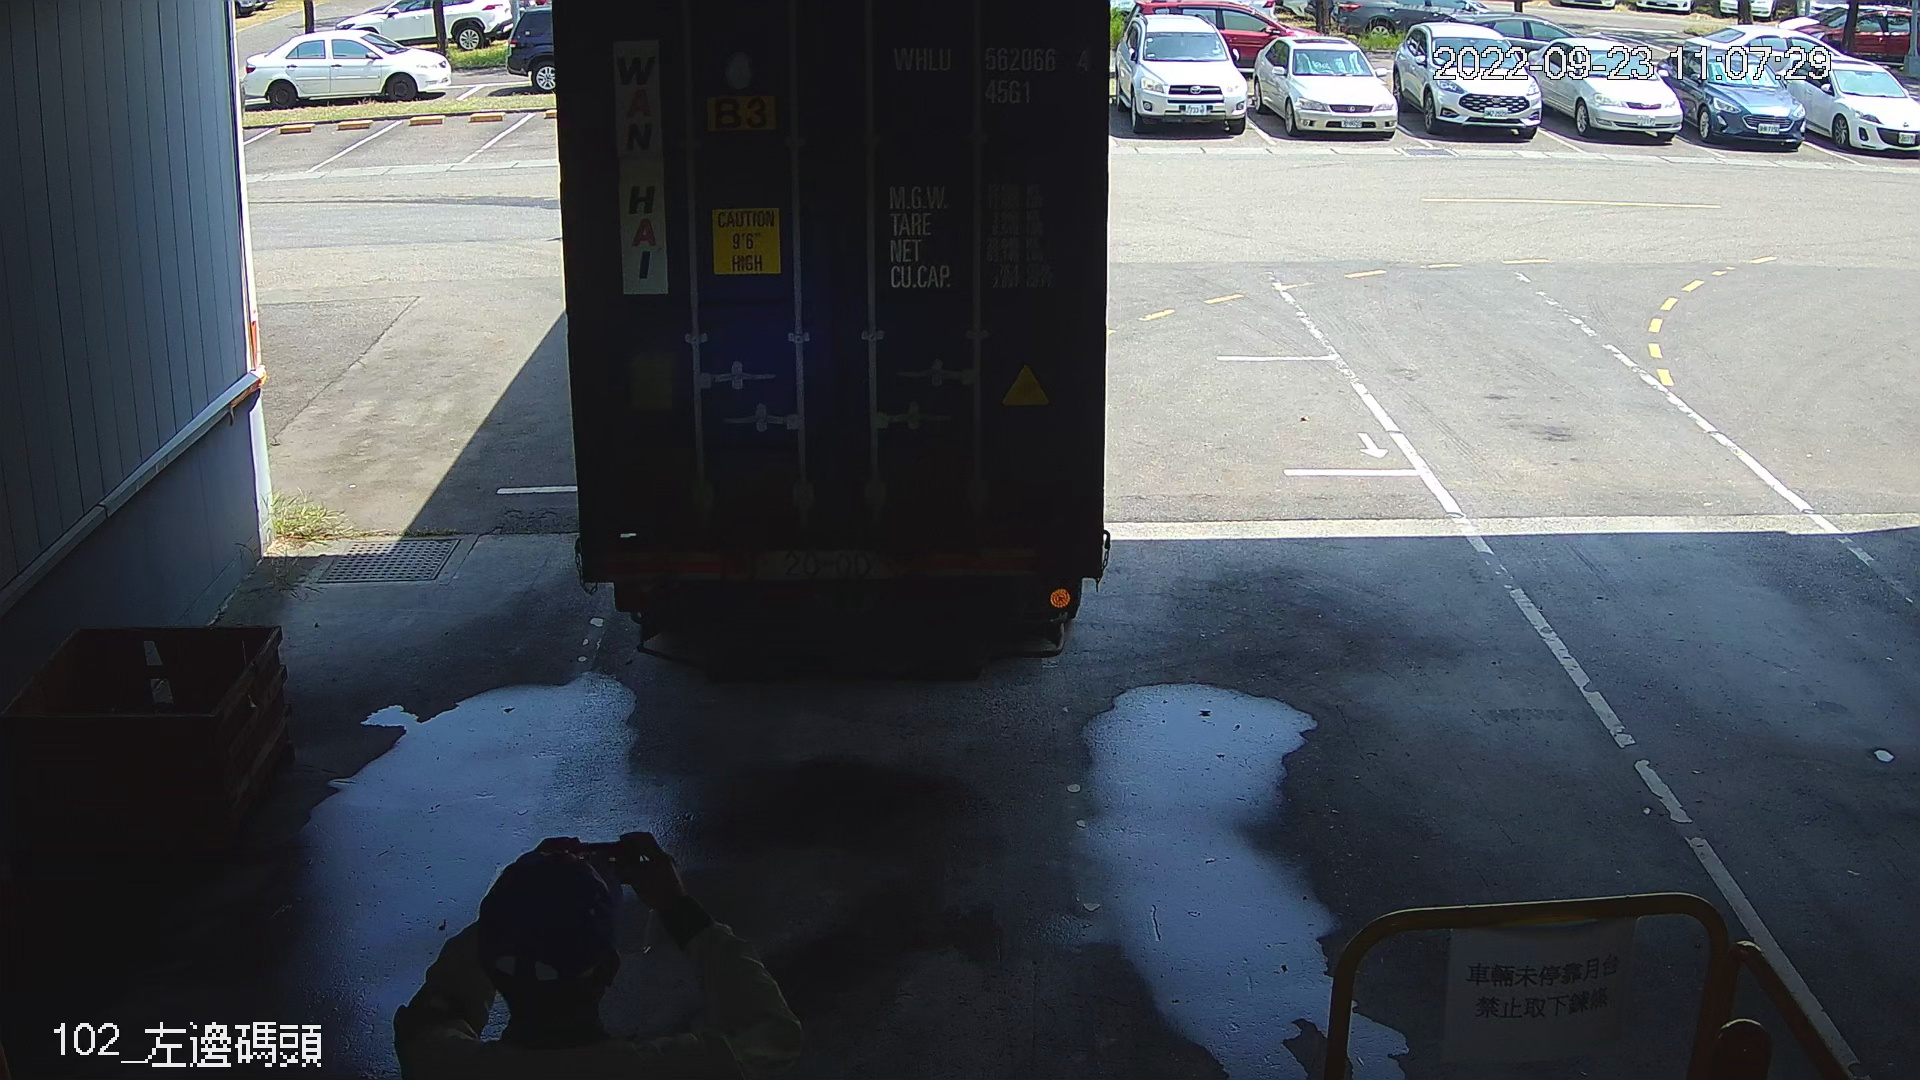container: (882, 30, 1098, 113)
